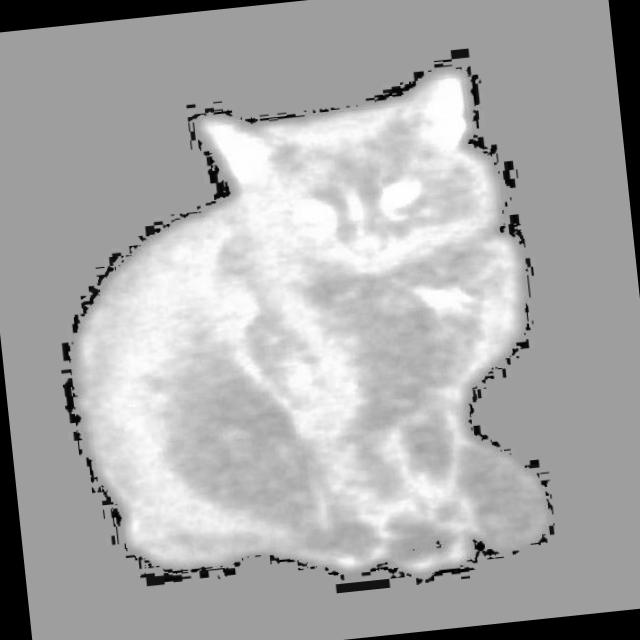Cat: (47, 50, 568, 613)
